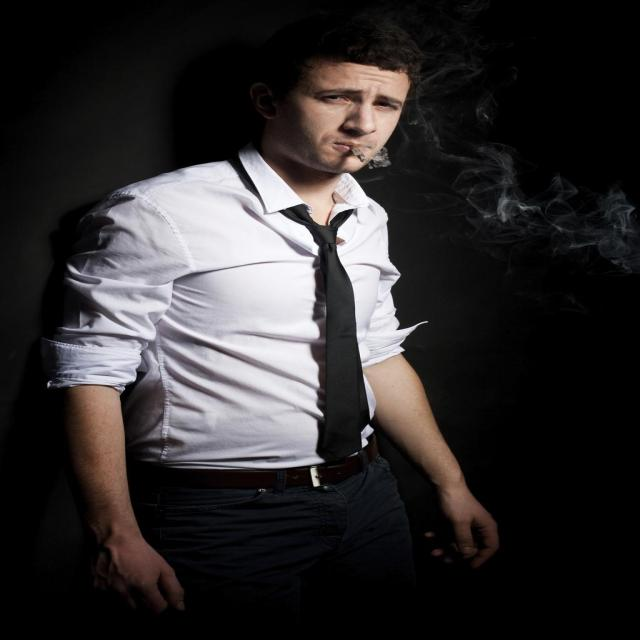smoking: (245, 14, 453, 200)
